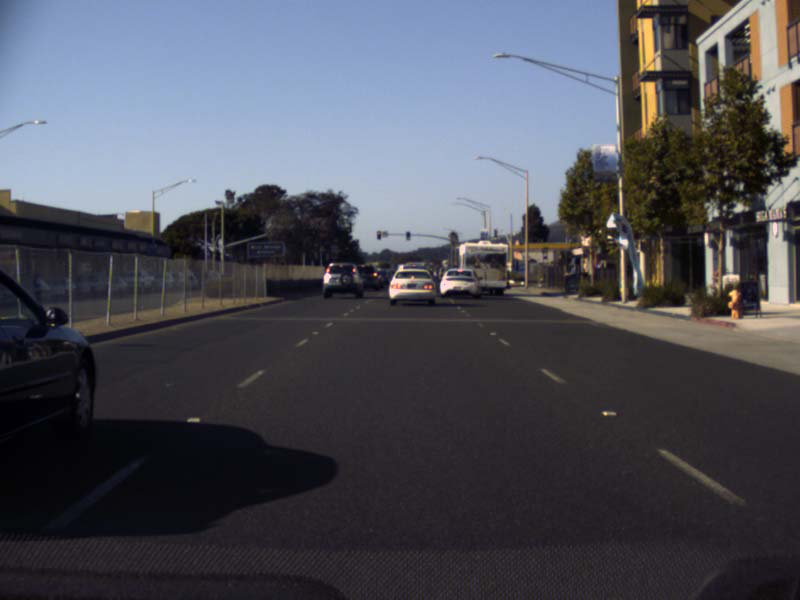Green: (406, 231, 409, 239)
Red: (376, 231, 380, 239)
